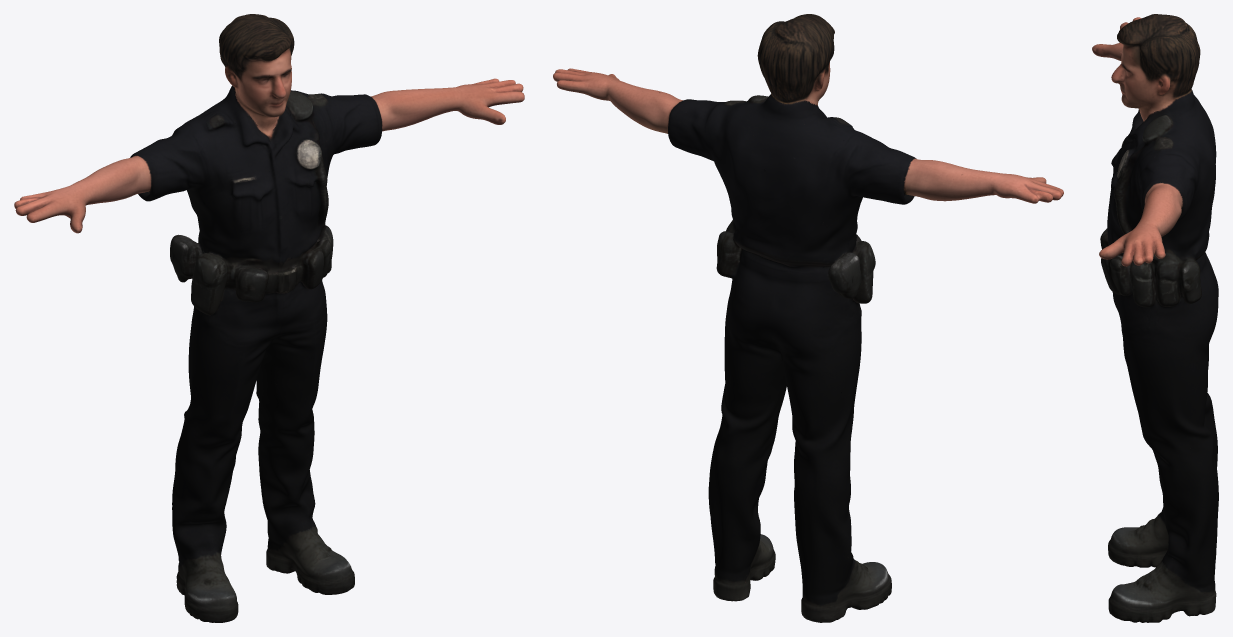
Rendered from policeman.glb.
3 views of the same model, side by side, from view 1: azimuth 30°, elevation 25°; view 2: azimuth 150°, elevation 25°; view 3: azimuth 270°, elevation 25° (orthographic).
Visible parts, largest first — view 1: world; view 2: world; view 3: world.
Part boxes in pixels (bbox=[...]): world: bbox=[14, 14, 524, 622]; world: bbox=[553, 14, 1063, 622]; world: bbox=[1092, 14, 1218, 622].
Size of the model in its own units: 0.9235 by 1 by 0.2027.
1 material, 1 textured.
